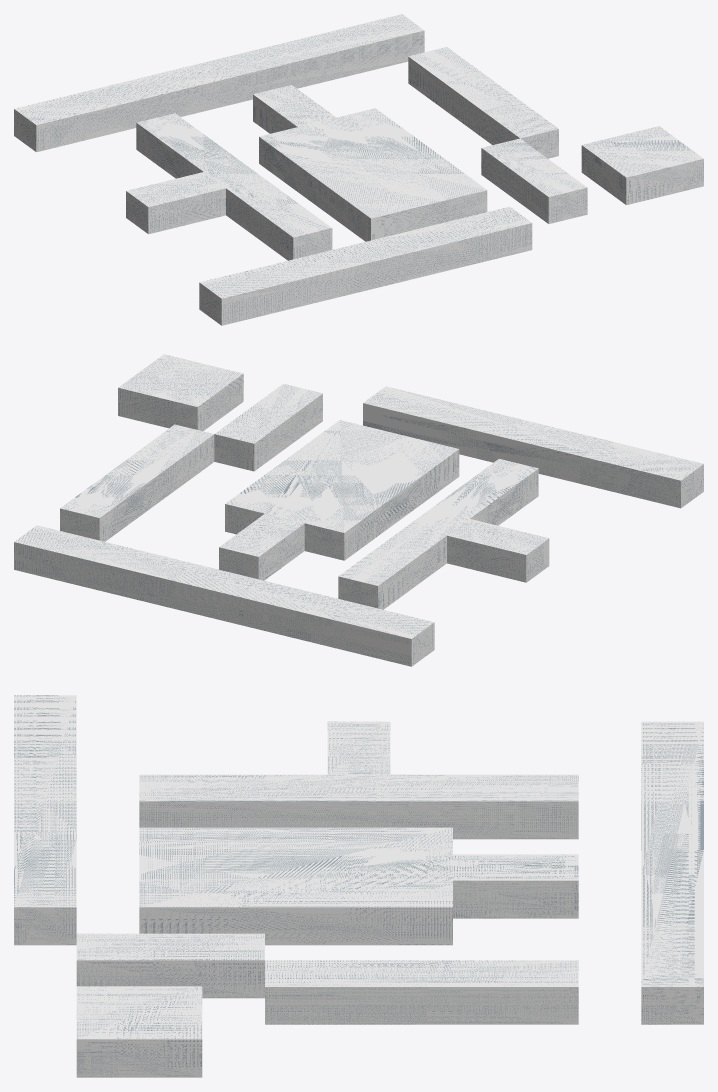
The model's file is Walls.dae.
3 views of the same model, one above another, from view 1: azimuth 30°, elevation 25°; view 2: azimuth 150°, elevation 25°; view 3: azimuth 270°, elevation 25° (orthographic). The views are drawn at different scales.
Visible parts, largest first — view 1: SketchUp (×6); view 2: SketchUp (×6); view 3: SketchUp (×6).
Part boxes in pixels (bbox=[...]): SketchUp (×6): bbox=[14, 14, 703, 325]; SketchUp (×6): bbox=[14, 354, 703, 666]; SketchUp (×6): bbox=[14, 695, 703, 1077].
Size of the model in its own units: 156 by 132 by 8.12.
